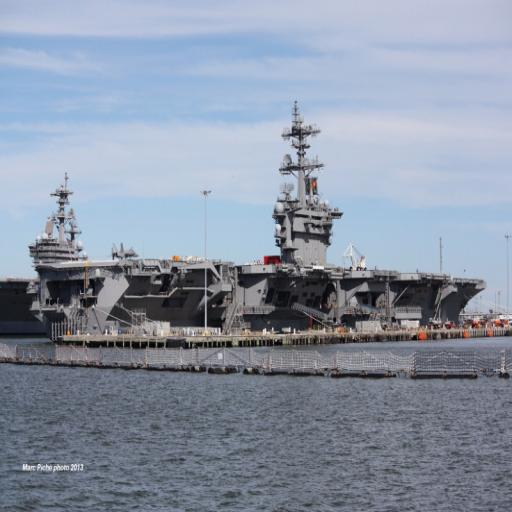Portanaves: (28, 111, 497, 351)
